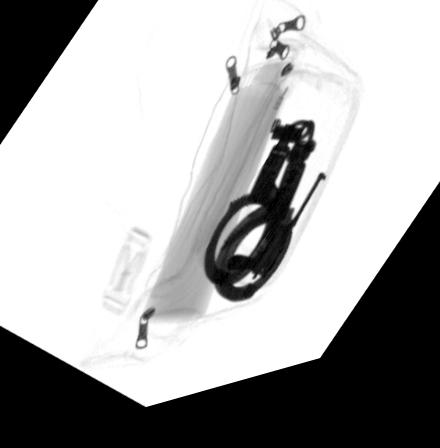Gun: (223, 189, 327, 293)
HandCuffs: (199, 135, 320, 314)
